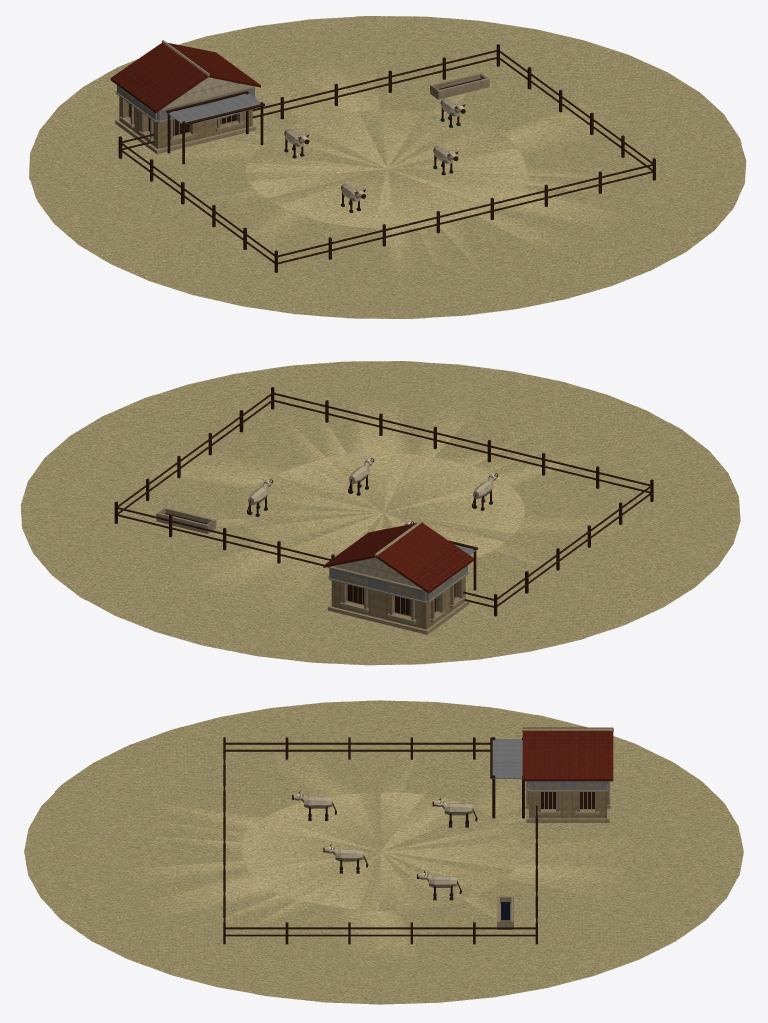
The model's file is pasture-bronze.glb.
3 views of the same model, one above another, from view 1: azimuth 30°, elevation 25°; view 2: azimuth 150°, elevation 25°; view 3: azimuth 270°, elevation 25° (orthographic).
Parts seen in each view (by area): view 1: LOD0; view 2: LOD0; view 3: LOD0.
Part boxes in pixels (bbox=[...]): LOD0: bbox=[29, 16, 746, 318]; LOD0: bbox=[20, 361, 740, 665]; LOD0: bbox=[24, 700, 743, 1004].
Size of what is drawn, in the model's own units: 4.74 by 0.4957 by 4.74.
Materials: 3 (3 with a texture image).
